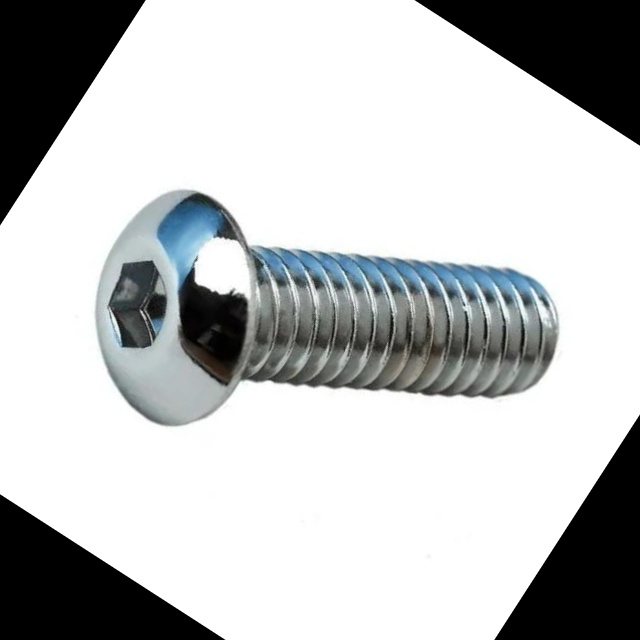allen: (44, 166, 313, 448)
